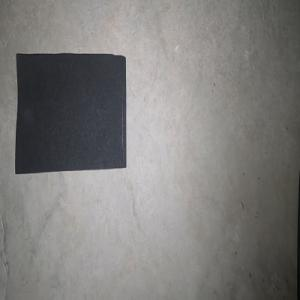PaintChip: (15, 53, 126, 174)
